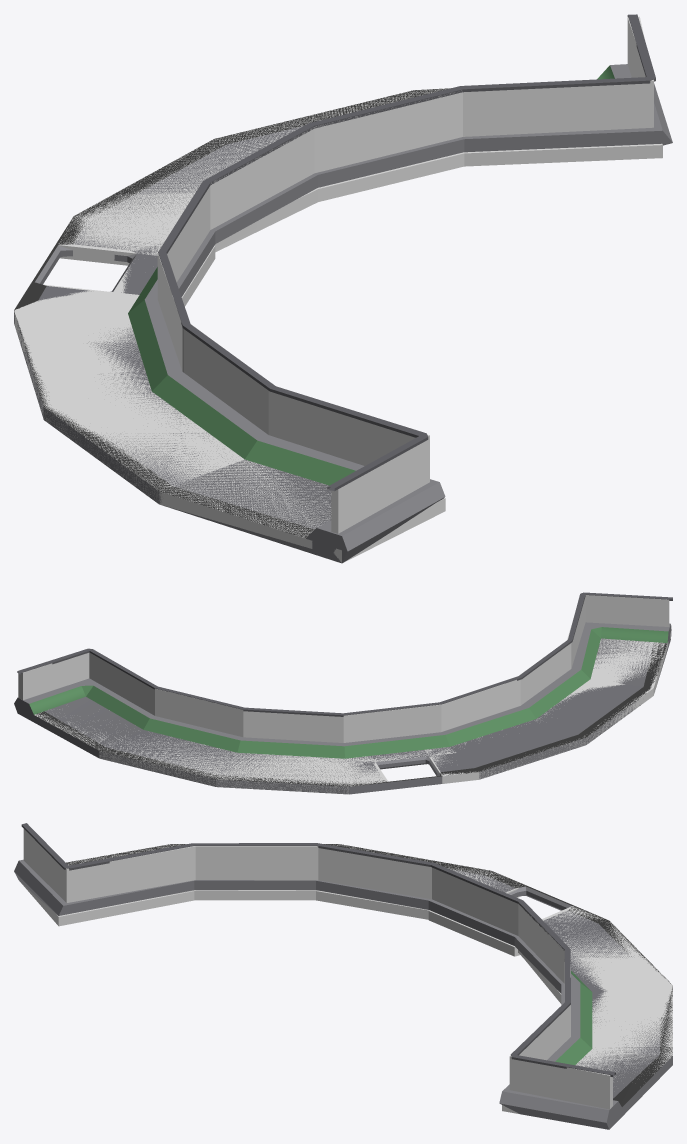
File: SM_Bld_Hydroponics_UpperWalkway_01.fbx
3 views of the same model, one above another, from view 1: azimuth 30°, elevation 25°; view 2: azimuth 150°, elevation 25°; view 3: azimuth 270°, elevation 25° (orthographic). The views are drawn at different scales.
Visible parts, largest first — view 1: SM_Bld_Hydroponics_UpperWalkway_01_ConvexHulls, SM_Bld_Hydroponics_UpperWalkway_01_LOD0; view 2: SM_Bld_Hydroponics_UpperWalkway_01_LOD0, SM_Bld_Hydroponics_UpperWalkway_01_ConvexHulls; view 3: SM_Bld_Hydroponics_UpperWalkway_01_ConvexHulls, SM_Bld_Hydroponics_UpperWalkway_01_LOD0.
Boxes of the visible parts, bbox=[...] form: SM_Bld_Hydroponics_UpperWalkway_01_ConvexHulls: bbox=[14, 16, 662, 562]; SM_Bld_Hydroponics_UpperWalkway_01_LOD0: bbox=[14, 14, 672, 563]; SM_Bld_Hydroponics_UpperWalkway_01_LOD0: bbox=[14, 592, 672, 794]; SM_Bld_Hydroponics_UpperWalkway_01_ConvexHulls: bbox=[18, 593, 670, 793]; SM_Bld_Hydroponics_UpperWalkway_01_ConvexHulls: bbox=[19, 829, 672, 1113]; SM_Bld_Hydroponics_UpperWalkway_01_LOD0: bbox=[14, 823, 672, 1129].
Bounding box in the file's own units: 1174 × 1178 × 106.
Materials: 1 (1 with a texture image).
